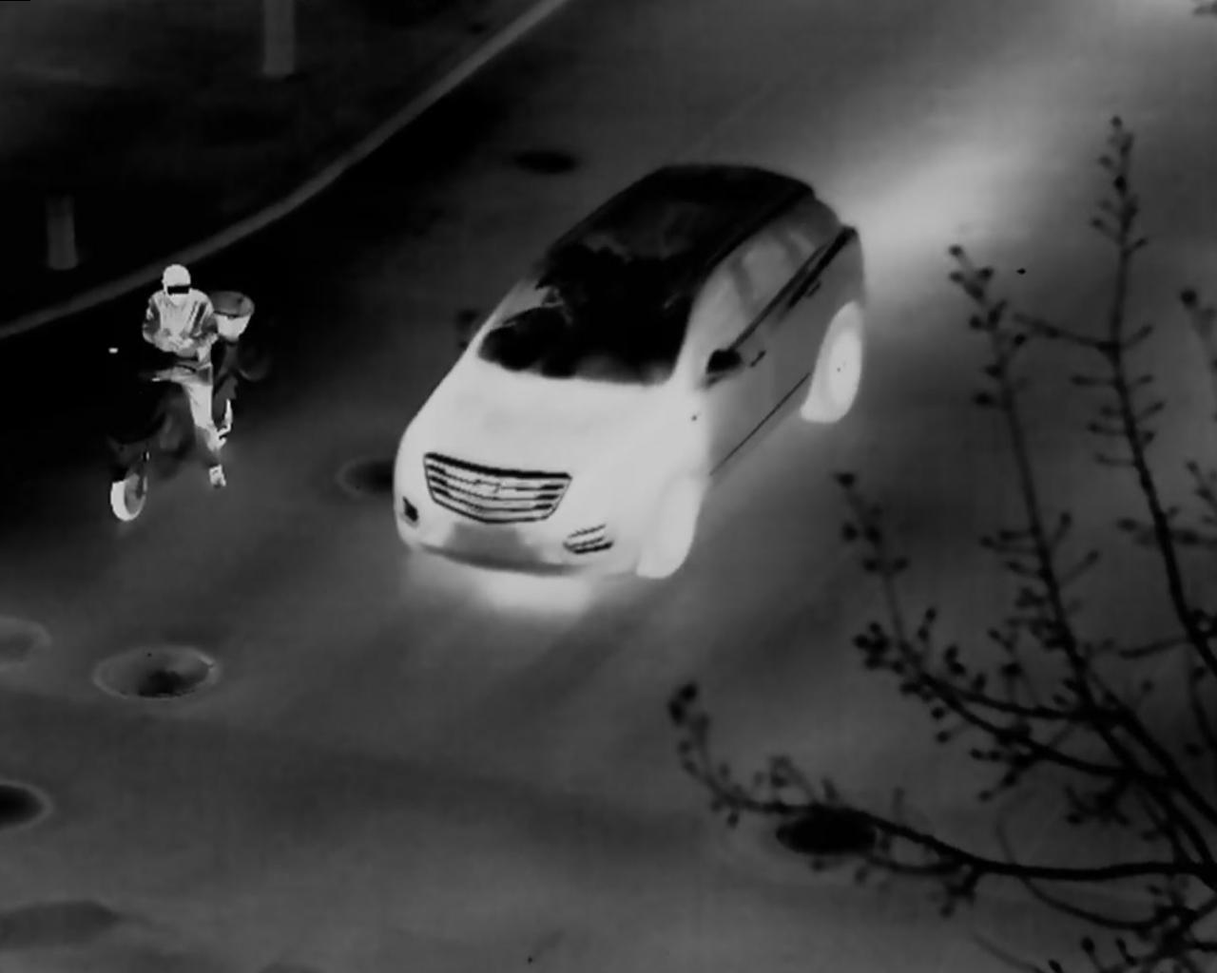person: (130, 267, 222, 465)
